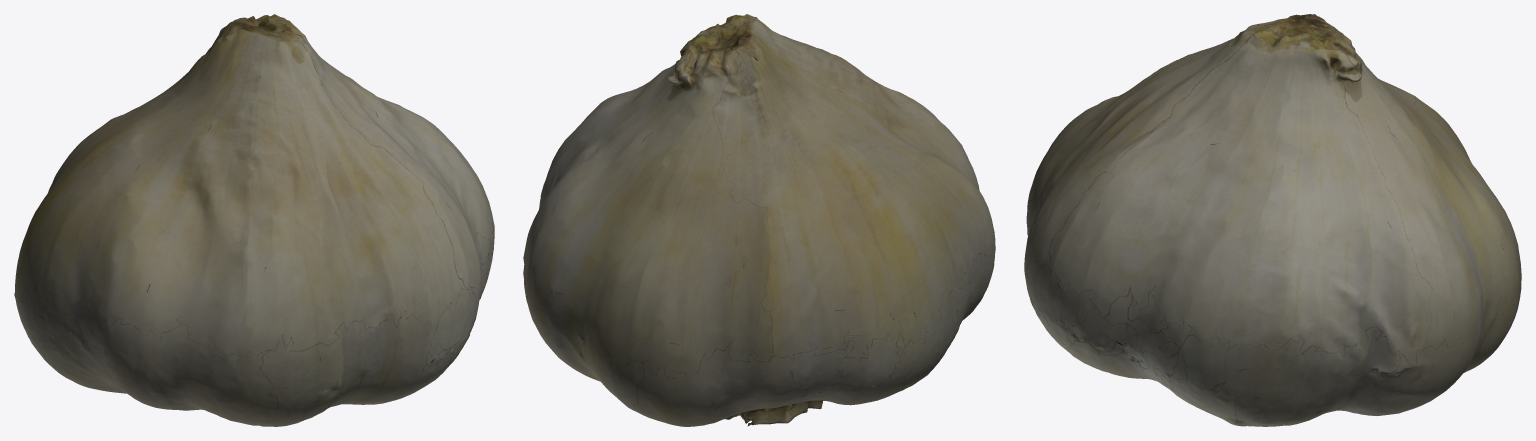
The model's file is Bawang putih.fbx.
3 views of the same model, side by side, from view 1: azimuth 30°, elevation 25°; view 2: azimuth 150°, elevation 25°; view 3: azimuth 270°, elevation 25° (orthographic). The views are drawn at different scales.
Parts seen in each view (by area): view 1: Object_3; view 2: Object_3; view 3: Object_3.
Boxes of the visible parts, box(x1,y1,x2,y2) form: Object_3: box(14, 14, 494, 426); Object_3: box(523, 14, 995, 426); Object_3: box(1024, 14, 1521, 426).
Bounding box in the file's own units: 180 × 149 × 179.
